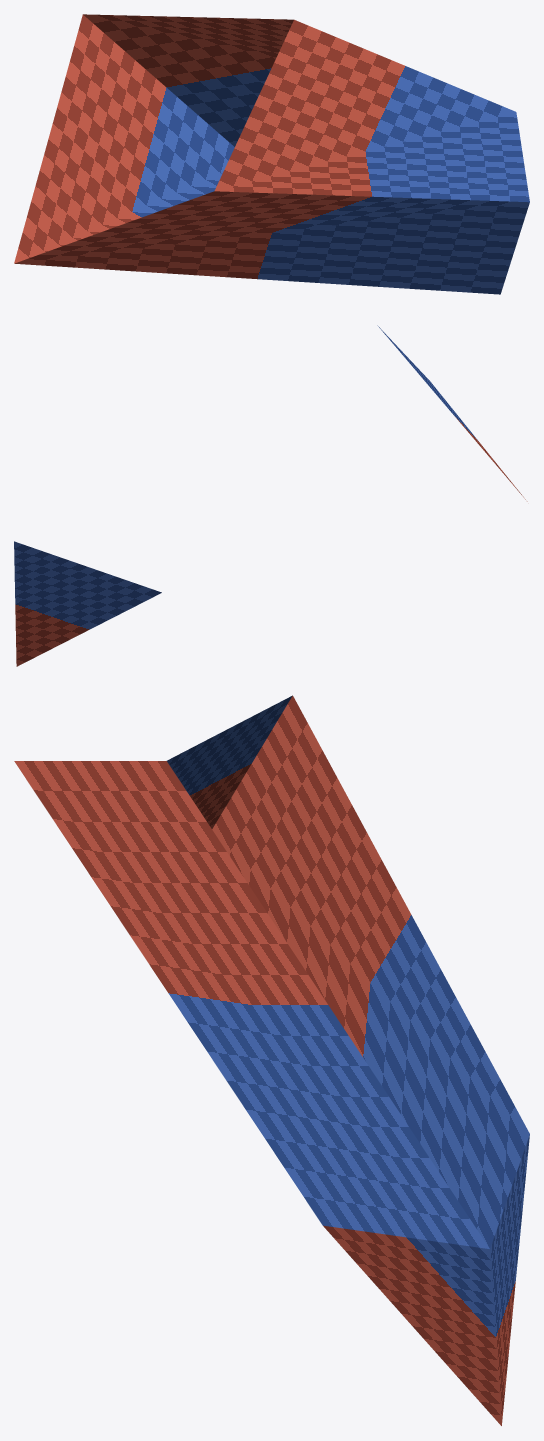
File: viewer-asymmetric-b.glb
3 renders of one model, top to bottom at view 1: azimuth 30°, elevation 25°; view 2: azimuth 150°, elevation 25°; view 3: azimuth 270°, elevation 25°, orthographic. The views are drawn at different scales.
Parts seen in each view (by area): view 1: asset-root-child; view 2: asset-root-child; view 3: asset-root-child.
Boxes of the visible parts, x1,y1,x2,y2 form: asset-root-child: (14, 14, 529, 294); asset-root-child: (14, 325, 527, 666); asset-root-child: (14, 695, 529, 1425).
Bounding box in the file's own units: 2.8 × 2.04 × 1.97.
1 material, 1 textured.
